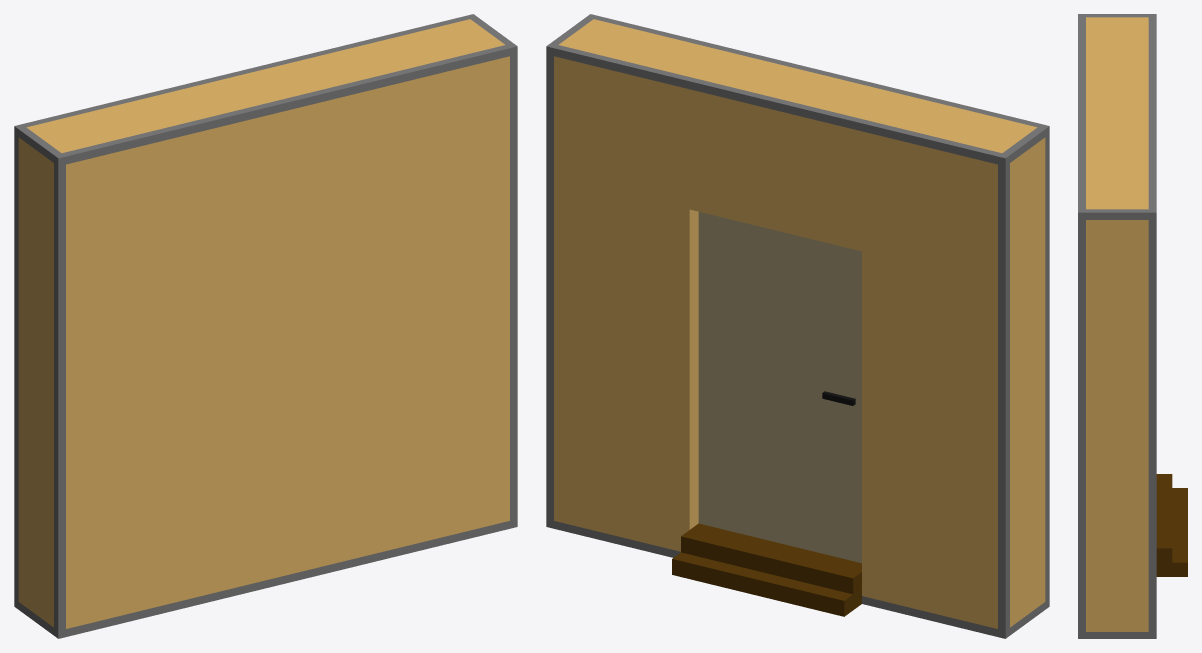
File: house_door.fbx
3 views of the same model, side by side, from view 1: azimuth 30°, elevation 25°; view 2: azimuth 150°, elevation 25°; view 3: azimuth 270°, elevation 25° (orthographic). The views are drawn at different scales.
Visible parts, largest first — view 1: house_door; view 2: house_door; view 3: house_door.
Part boxes in pixels (x1,y1,x2,y2): house_door: (14, 14, 517, 638); house_door: (546, 14, 1049, 638); house_door: (1078, 14, 1187, 638).
Bounding box in the file's own units: 3 × 3 × 0.7.
